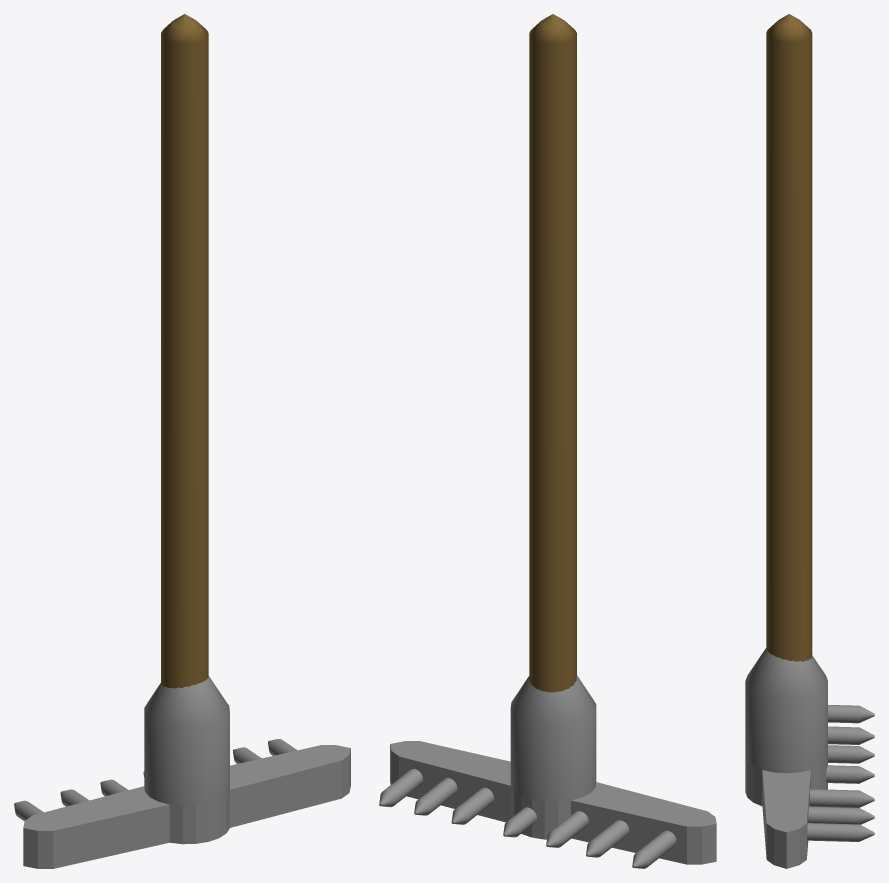
The model's file is Hark.fbx.
3 views of the same model, side by side, from view 1: azimuth 30°, elevation 25°; view 2: azimuth 150°, elevation 25°; view 3: azimuth 270°, elevation 25° (orthographic). The views are drawn at different scales.
Visible parts, largest first — view 1: polySurface26; view 2: polySurface26; view 3: polySurface26.
Boxes of the visible parts, x1,y1,x2,y2 form: polySurface26: [14, 14, 350, 868]; polySurface26: [379, 14, 716, 868]; polySurface26: [745, 14, 874, 868].
Bounding box in the file's own units: 3.2 × 7.57 × 1.14.
